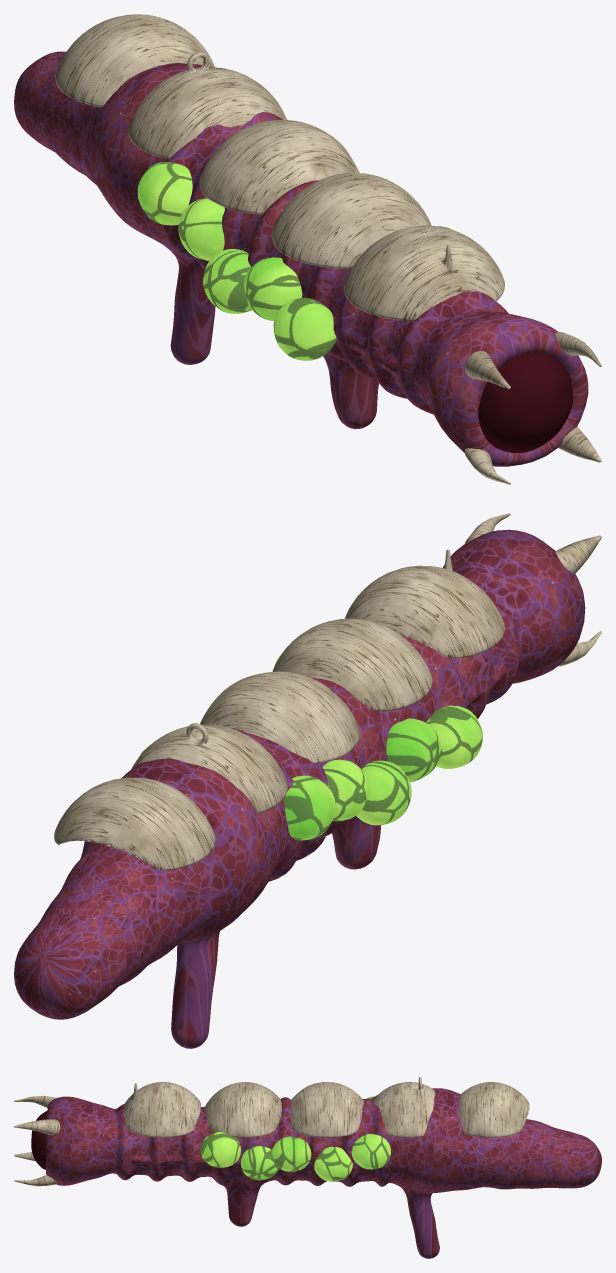
File: gun_bio_brood.glb
3 views of the same model, one above another, from view 1: azimuth 30°, elevation 25°; view 2: azimuth 150°, elevation 25°; view 3: azimuth 270°, elevation 25° (orthographic). The views are drawn at different scales.
Parts seen in each view (by area): view 1: gun_bio_brood, hatch; view 2: gun_bio_brood, hatch; view 3: gun_bio_brood, hatch.
Part boxes in pixels (bbox=[...]): gun_bio_brood: bbox=[14, 14, 601, 484]; hatch: bbox=[199, 120, 359, 214]; gun_bio_brood: bbox=[14, 513, 601, 1048]; hatch: bbox=[200, 671, 359, 763]; gun_bio_brood: bbox=[14, 1077, 601, 1258]; hatch: bbox=[290, 1082, 363, 1137].
Size of the model in its own units: 0.2395 by 0.3629 by 1.07.
Materials: 5 (4 with a texture image).
